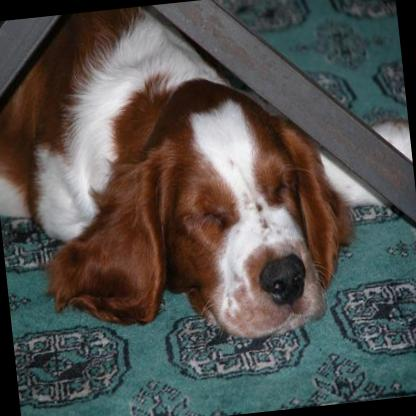Welsh_springer_spaniel: (0, 0, 416, 364)
